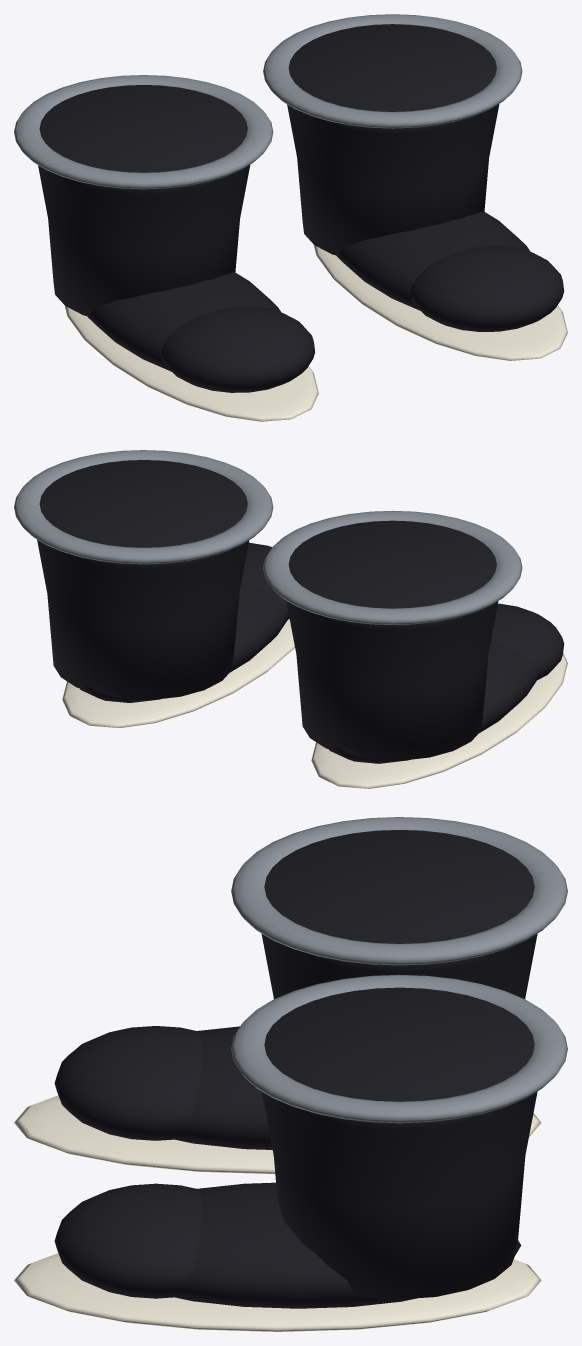
The model's file is shoes_start_m.glb.
3 renders of one model, top to bottom at view 1: azimuth 30°, elevation 25°; view 2: azimuth 150°, elevation 25°; view 3: azimuth 270°, elevation 25°, orthographic. The views are drawn at different scales.
Bounding box in the file's own units: 0.392 × 0.1537 × 0.3058.
